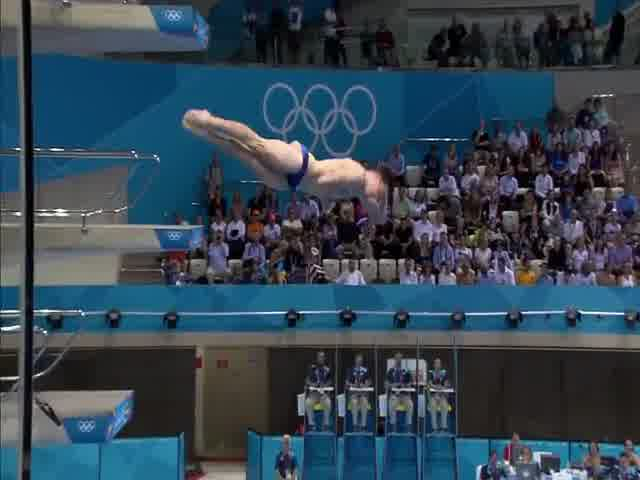diver: (180, 107, 391, 226)
